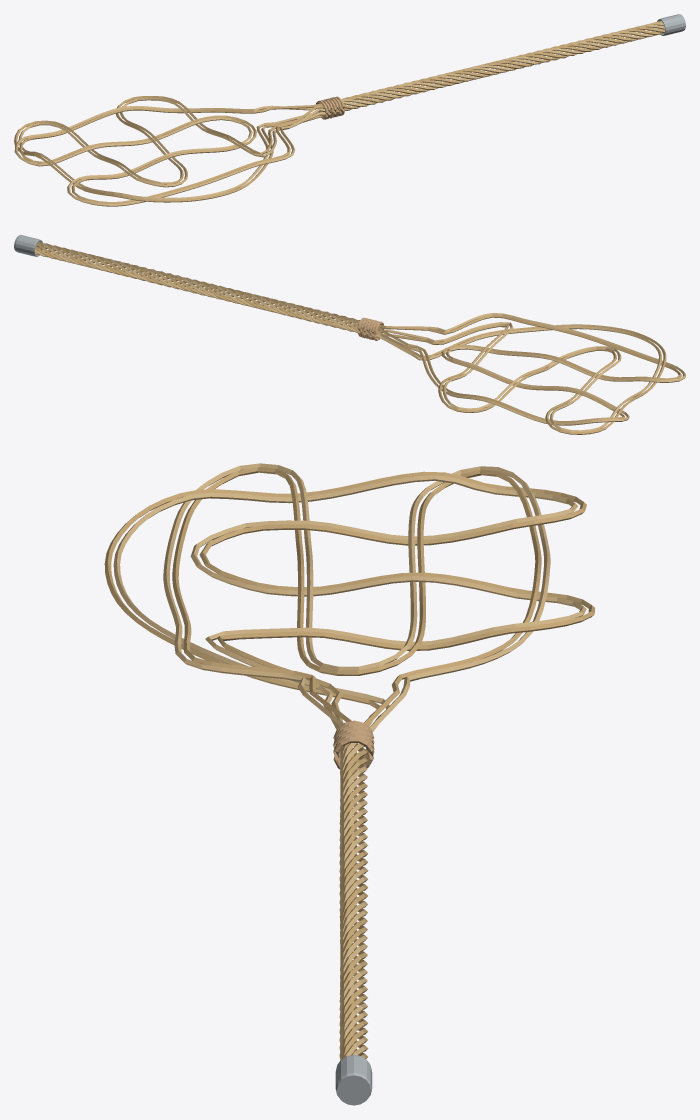
3 views of the same model, one above another, from view 1: azimuth 30°, elevation 25°; view 2: azimuth 150°, elevation 25°; view 3: azimuth 270°, elevation 25° (orthographic). The views are drawn at different scales.
Parts seen in each view (by area): view 1: Continuous_paired_rattan_reed_01_head_and_handle, Continuous_paired_rattan_reed_02_head_and_handle, Continuous_paired_rattan_reed_04_head_and_handle, Continuous_paired_rattan_reed_03_head_and_handle, Continuous_throat_cane_binding, Short_metal_butt_ferrule_with_blind_bore; view 2: Continuous_paired_rattan_reed_02_head_and_handle, Continuous_paired_rattan_reed_01_head_and_handle, Continuous_paired_rattan_reed_04_head_and_handle, Continuous_paired_rattan_reed_03_head_and_handle, Continuous_throat_cane_binding, Short_metal_butt_ferrule_with_blind_bore; view 3: Continuous_paired_rattan_reed_03_head_and_handle, Continuous_paired_rattan_reed_04_head_and_handle, Continuous_paired_rattan_reed_02_head_and_handle, Continuous_paired_rattan_reed_01_head_and_handle, Short_metal_butt_ferrule_with_blind_bore, Continuous_throat_cane_binding.
Boxes of the visible parts, <box> form: Continuous_paired_rattan_reed_01_head_and_handle: <box>19,21,662,203</box>; Continuous_paired_rattan_reed_02_head_and_handle: <box>14,22,663,206</box>; Continuous_paired_rattan_reed_04_head_and_handle: <box>18,24,664,199</box>; Continuous_paired_rattan_reed_03_head_and_handle: <box>14,26,664,202</box>; Continuous_throat_cane_binding: <box>316,96,344,119</box>; Short_metal_butt_ferrule_with_blind_bore: <box>657,14,685,35</box>; Continuous_paired_rattan_reed_02_head_and_handle: <box>35,241,685,425</box>; Continuous_paired_rattan_reed_01_head_and_handle: <box>35,243,681,422</box>; Continuous_paired_rattan_reed_04_head_and_handle: <box>35,243,661,431</box>; Continuous_paired_rattan_reed_03_head_and_handle: <box>35,245,666,434</box>; Continuous_throat_cane_binding: <box>357,317,383,340</box>; Short_metal_butt_ferrule_with_blind_bore: <box>14,235,42,256</box>; Continuous_paired_rattan_reed_03_head_and_handle: <box>104,471,595,1060</box>; Continuous_paired_rattan_reed_04_head_and_handle: <box>113,475,586,1057</box>; Continuous_paired_rattan_reed_02_head_and_handle: <box>163,463,550,1055</box>; Continuous_paired_rattan_reed_01_head_and_handle: <box>172,467,541,1058</box>; Short_metal_butt_ferrule_with_blind_bore: <box>335,1055,372,1105</box>; Continuous_throat_cane_binding: <box>333,720,374,773</box>.
Bounding box in the file's own units: 0.75 × 0.0217 × 0.25.
